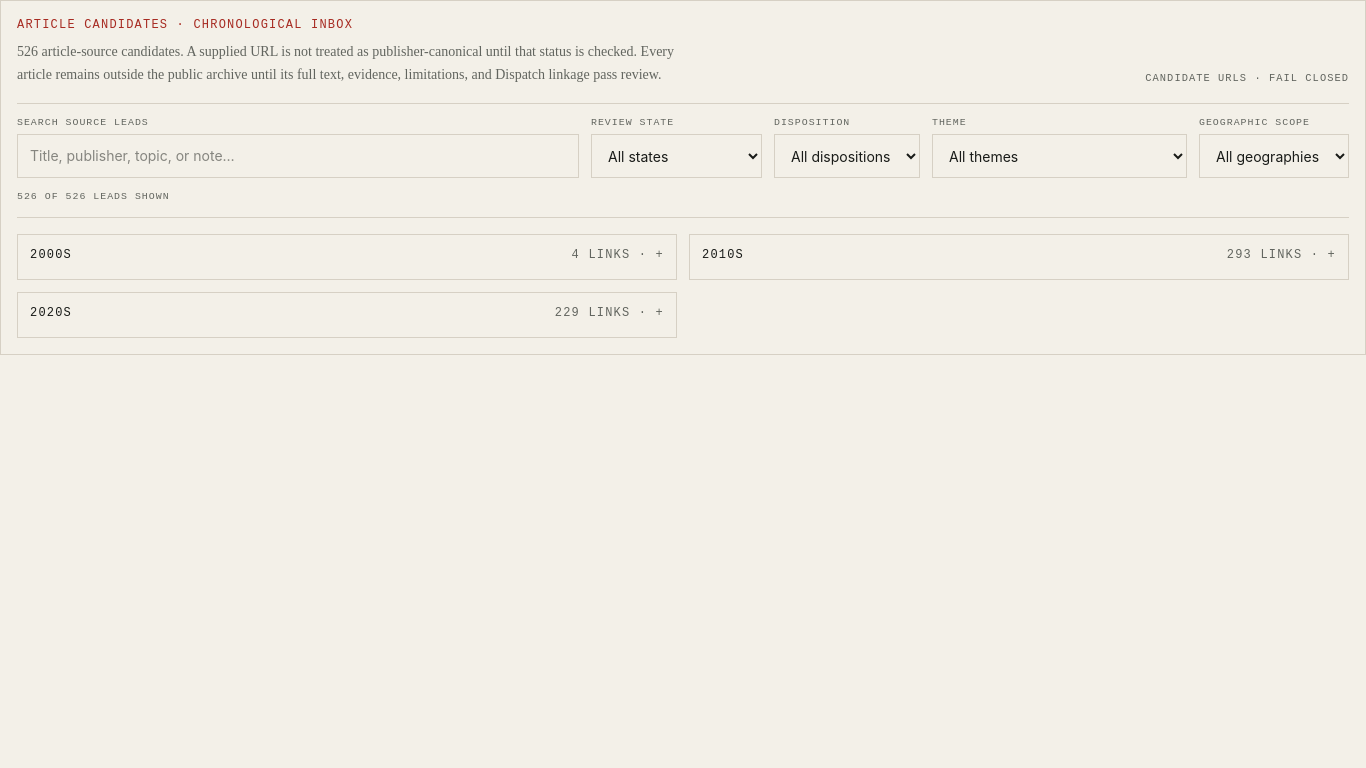
SourceLeadInbox › filters and presents the controlled link taxonomy
Select "Trade and industry" in the dropdown labelled "Theme" at coordinates (1060, 156), box [932,134,1187,178]
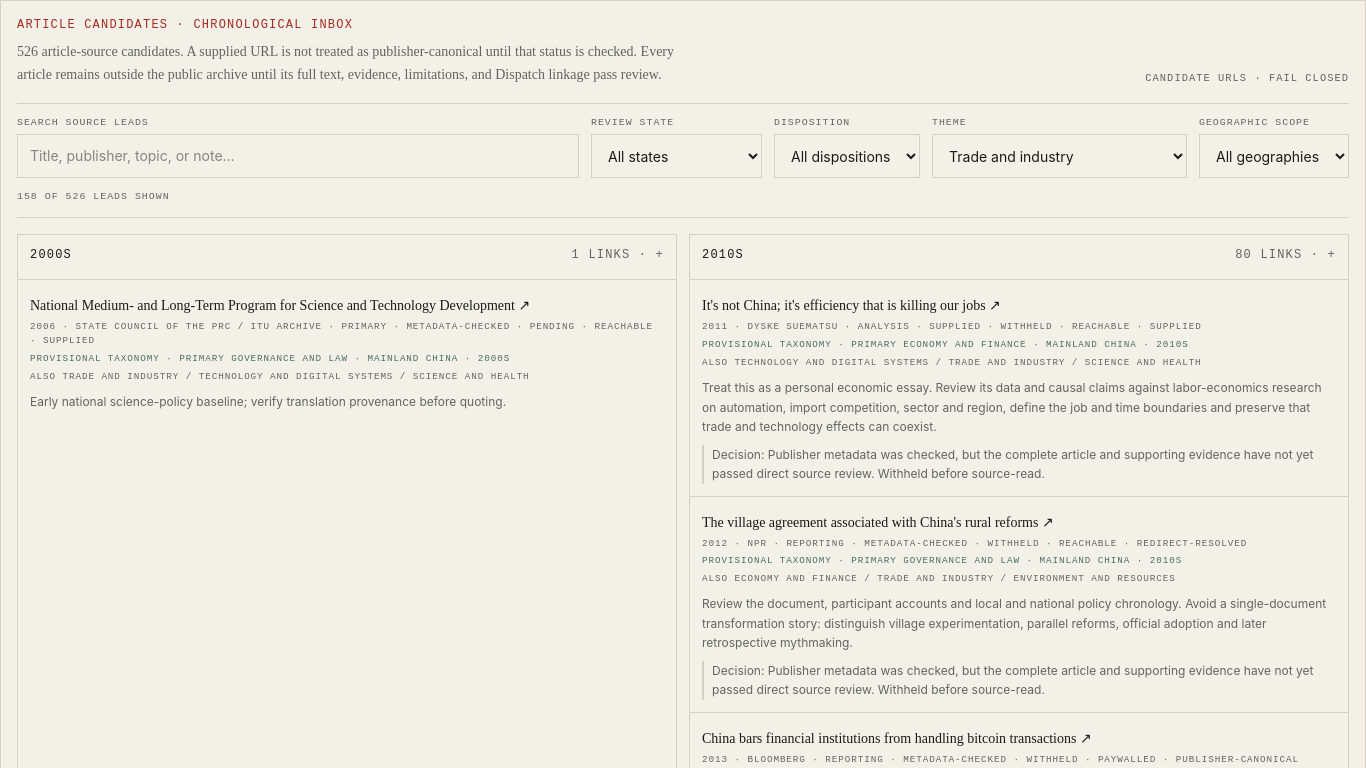
expect the text "Provisional taxonomy" is shown: met, box [30,353,225,364]
